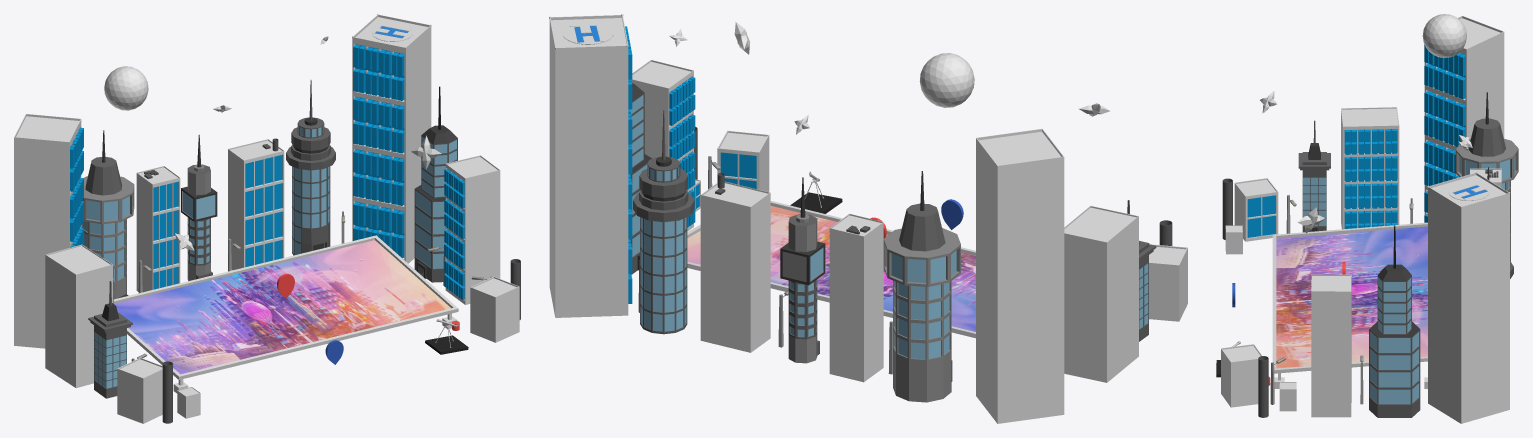
Rendered from PopupBook_Ch03_Objects.fbx.
3 renders of one model, left to right at view 1: azimuth 30°, elevation 25°; view 2: azimuth 150°, elevation 25°; view 3: azimuth 270°, elevation 25°, orthographic. The views are drawn at different scales.
Visible parts, largest first — view 1: Cube.004, Circle.002, Building 11.005, Building 11.003, Building 11.004, Building 11.001, Skyscraper1, Building 11, Skyscraper3, Skyscraper5, Skyscraper4, Building 2.004 (+6 smaller); view 2: Building 11.005, Circle.002, Building 11.003, Skyscraper3, Building 11.001, Building 11, Skyscraper1, Building 11.004, Cube.004, Skyscraper4, Building 2, Building 2.004 (+4 smaller); view 3: Circle.002, Cube.004, Building 11.005, Building 11.003, Skyscraper5, Building 11.004, Skyscraper3, Building 2, Building 2.004, Skyscraper2, Icosphere.004, Building 13.002 (+5 smaller).
Boxes of the visible parts, box(x1,y1,x2,y2) form: Cube.004: box(113, 235, 458, 379); Circle.002: box(352, 14, 431, 263); Building 11.005: box(14, 114, 83, 348); Building 11.003: box(45, 244, 113, 388); Building 11.004: box(444, 155, 500, 304); Building 11.001: box(228, 139, 284, 270); Skyscraper1: box(286, 80, 335, 255); Building 11: box(136, 166, 180, 292); Skyscraper3: box(81, 130, 134, 299); Skyscraper5: box(414, 86, 457, 282); Skyscraper4: box(181, 134, 217, 280); Building 2.004: box(470, 276, 519, 342); Building 11.005: box(976, 128, 1064, 423); Circle.002: box(549, 14, 632, 317); Building 11.003: box(1064, 205, 1138, 382); Skyscraper3: box(883, 171, 960, 402); Building 11.001: box(700, 181, 770, 352); Building 11: box(829, 213, 883, 382); Skyscraper1: box(633, 110, 694, 334); Building 11.004: box(631, 60, 695, 231); Cube.004: box(687, 201, 975, 338); Skyscraper4: box(780, 177, 825, 363); Building 2: box(1149, 244, 1187, 321); Building 2.004: box(717, 130, 769, 191); Circle.002: box(1427, 172, 1510, 423); Cube.004: box(1272, 222, 1427, 373); Building 11.005: box(1424, 16, 1504, 222); Building 11.003: box(1341, 107, 1399, 229); Skyscraper5: box(1369, 225, 1420, 417); Building 11.004: box(1311, 274, 1351, 417); Skyscraper3: box(1456, 92, 1518, 261); Building 2: box(1234, 178, 1278, 241); Building 2.004: box(1221, 344, 1262, 407); Skyscraper2: box(1298, 120, 1330, 232); Icosphere.004: box(1422, 14, 1466, 57); Building 13.002: box(1258, 356, 1268, 417).
Size of the model in its own units: 299 by 177 by 188.
